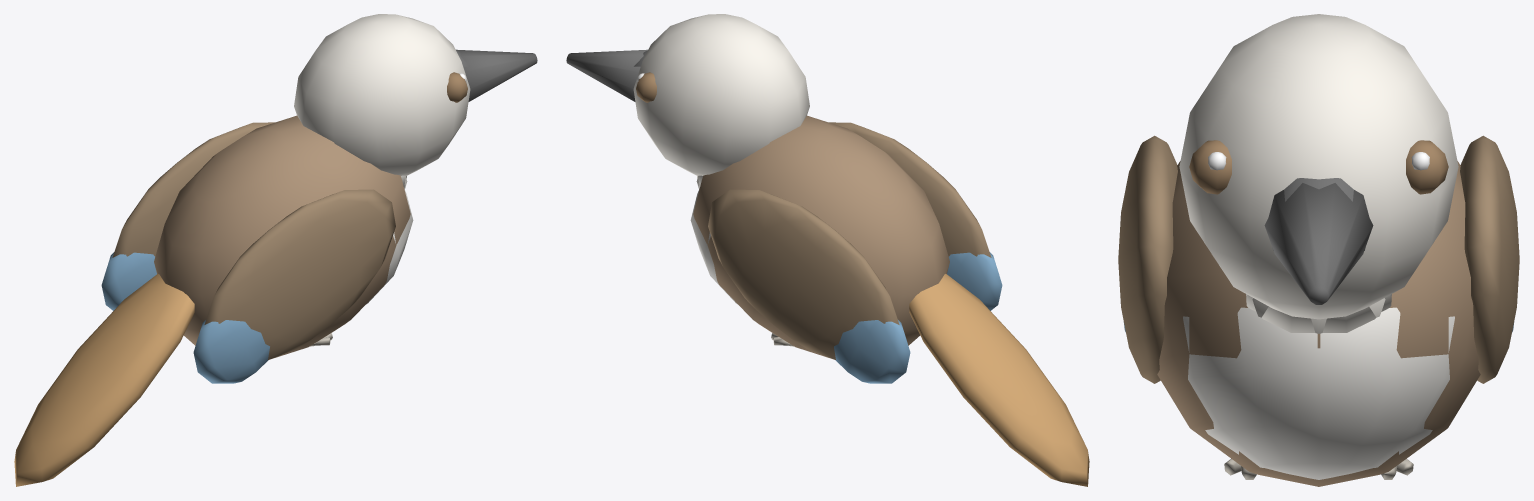
Rendered from laughing-kookaburra.glb.
The picture shows the model from 3 angles, left to right: view 1: azimuth 30°, elevation 25°; view 2: azimuth 150°, elevation 25°; view 3: azimuth 270°, elevation 25°; orthographic projection. The views are drawn at different scales.
Visible parts, largest first — view 1: e, e.009, e.002, e.004; view 2: e, e.009, e.004, e.002; view 3: e.009, e, e.004, e.002, e.007.
Boxes of the visible parts, x1=… form: e: x1=14, y1=115, x2=413, y2=486; e.009: x1=294, y1=14, x2=537, y2=175; e.002: x1=193, y1=189, x2=395, y2=383; e.004: x1=101, y1=122, x2=274, y2=310; e: x1=690, y1=115, x2=1089, y2=486; e.009: x1=566, y1=14, x2=809, y2=175; e.004: x1=708, y1=189, x2=910, y2=383; e.002: x1=829, y1=122, x2=1002, y2=310; e.009: x1=1179, y1=14, x2=1458, y2=319; e: x1=1157, y1=161, x2=1480, y2=486; e.004: x1=1460, y1=135, x2=1519, y2=383; e.002: x1=1118, y1=135, x2=1177, y2=383; e.007: x1=1246, y1=294, x2=1391, y2=333.
Size of the model in its own units: 0.5864 by 0.4065 by 0.22.
